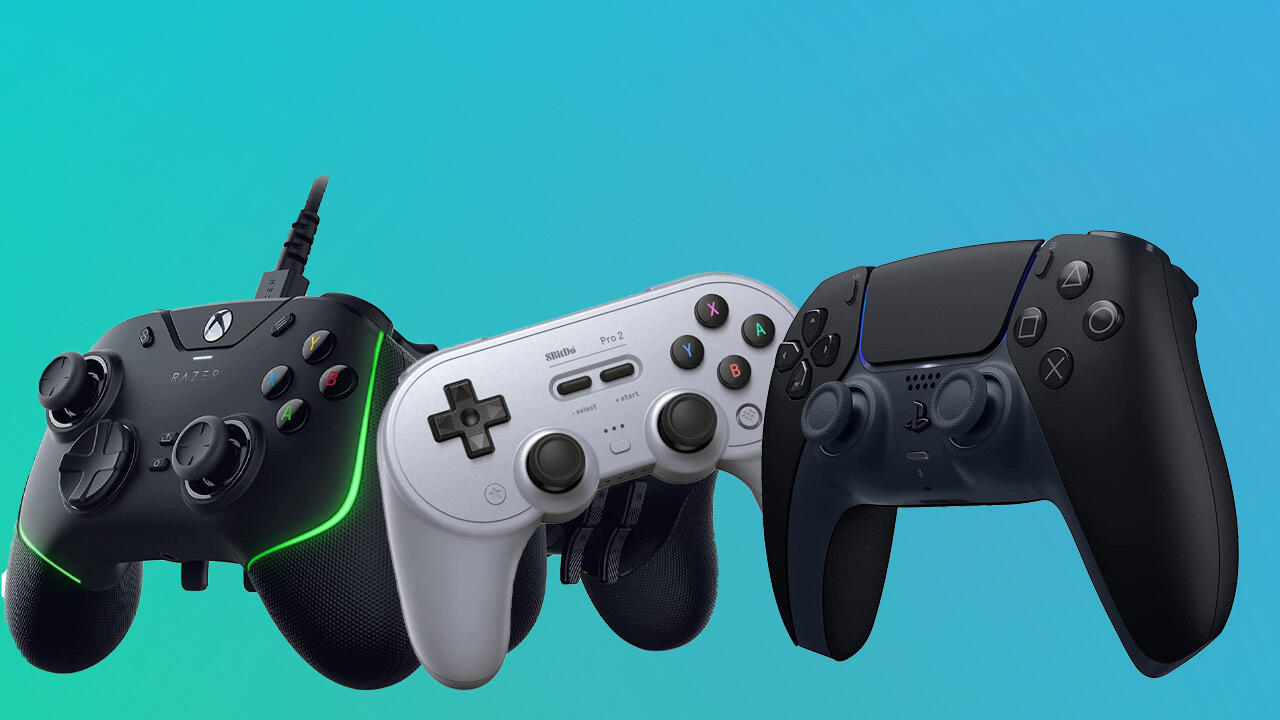controller: (763, 230, 1242, 679), (376, 273, 799, 689), (4, 294, 440, 689)
